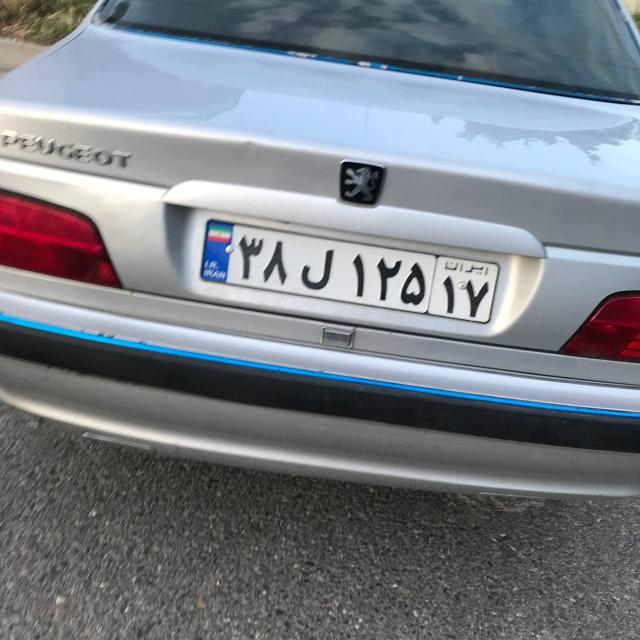Plates: (199, 221, 498, 323)
